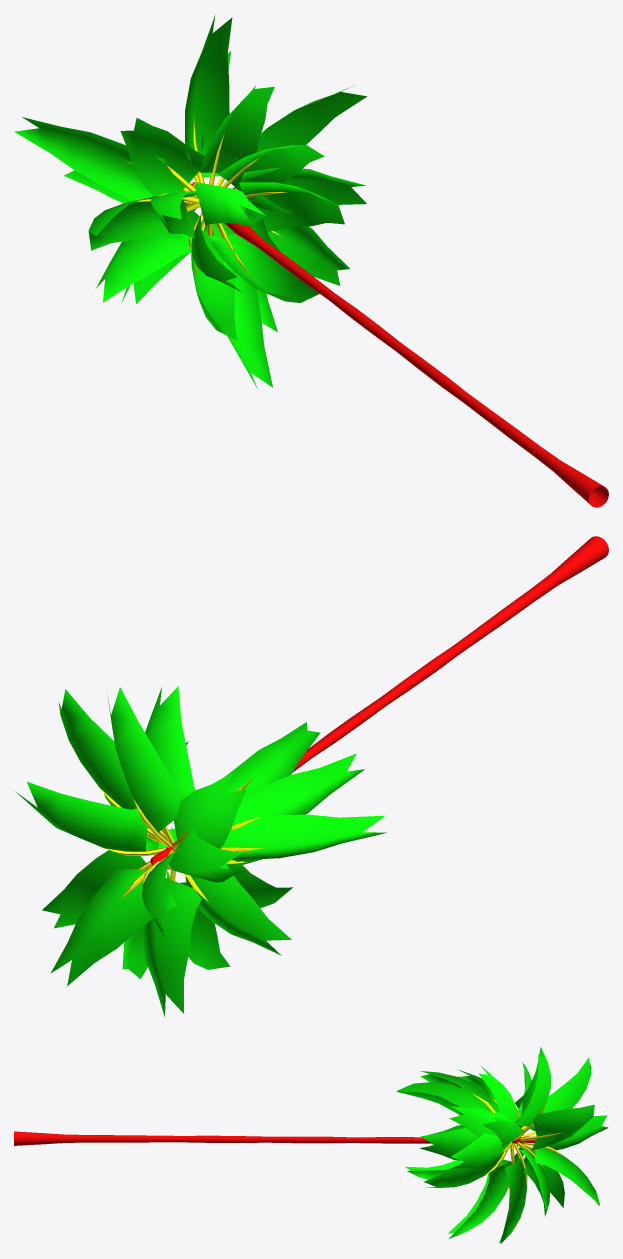
File: M_P10_Tree_10.FBX
3 renders of one model, top to bottom at view 1: azimuth 30°, elevation 25°; view 2: azimuth 150°, elevation 25°; view 3: azimuth 270°, elevation 25°, orthographic. The views are drawn at different scales.
Visible parts, largest first — view 1: M_P10_Tree_10_LOD0; view 2: M_P10_Tree_10_LOD0; view 3: M_P10_Tree_10_LOD0.
Part boxes in pixels (bbox=[...]): M_P10_Tree_10_LOD0: bbox=[14, 15, 608, 507]; M_P10_Tree_10_LOD0: bbox=[15, 536, 608, 1016]; M_P10_Tree_10_LOD0: bbox=[14, 1047, 608, 1243].
Bounding box in the file's own units: 273 × 760 × 279.
